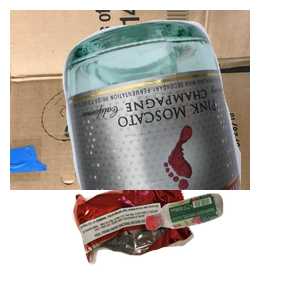cardboard: (10, 10, 250, 190)
glass: (60, 17, 300, 197)
plastic: (142, 191, 300, 300)
trash: (70, 162, 257, 300)
